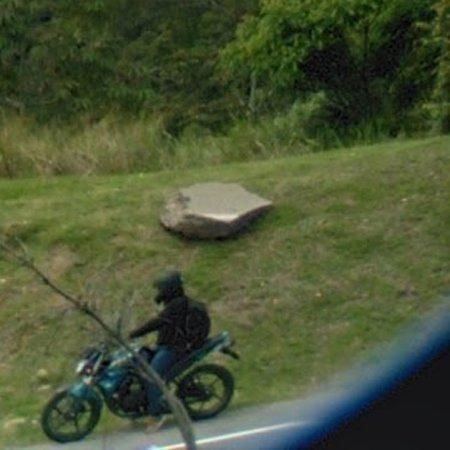motorcycles: (41, 343, 153, 444), (165, 332, 239, 420), (42, 404, 56, 413), (100, 395, 110, 401)
